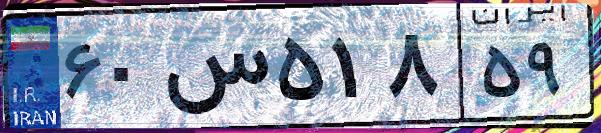0: (110, 28, 158, 98)
1: (330, 28, 385, 110)
5: (270, 28, 330, 110), (475, 38, 525, 113)
6: (57, 26, 110, 100)
8: (385, 28, 445, 110)
9: (525, 38, 570, 115)
س: (158, 20, 270, 120)
